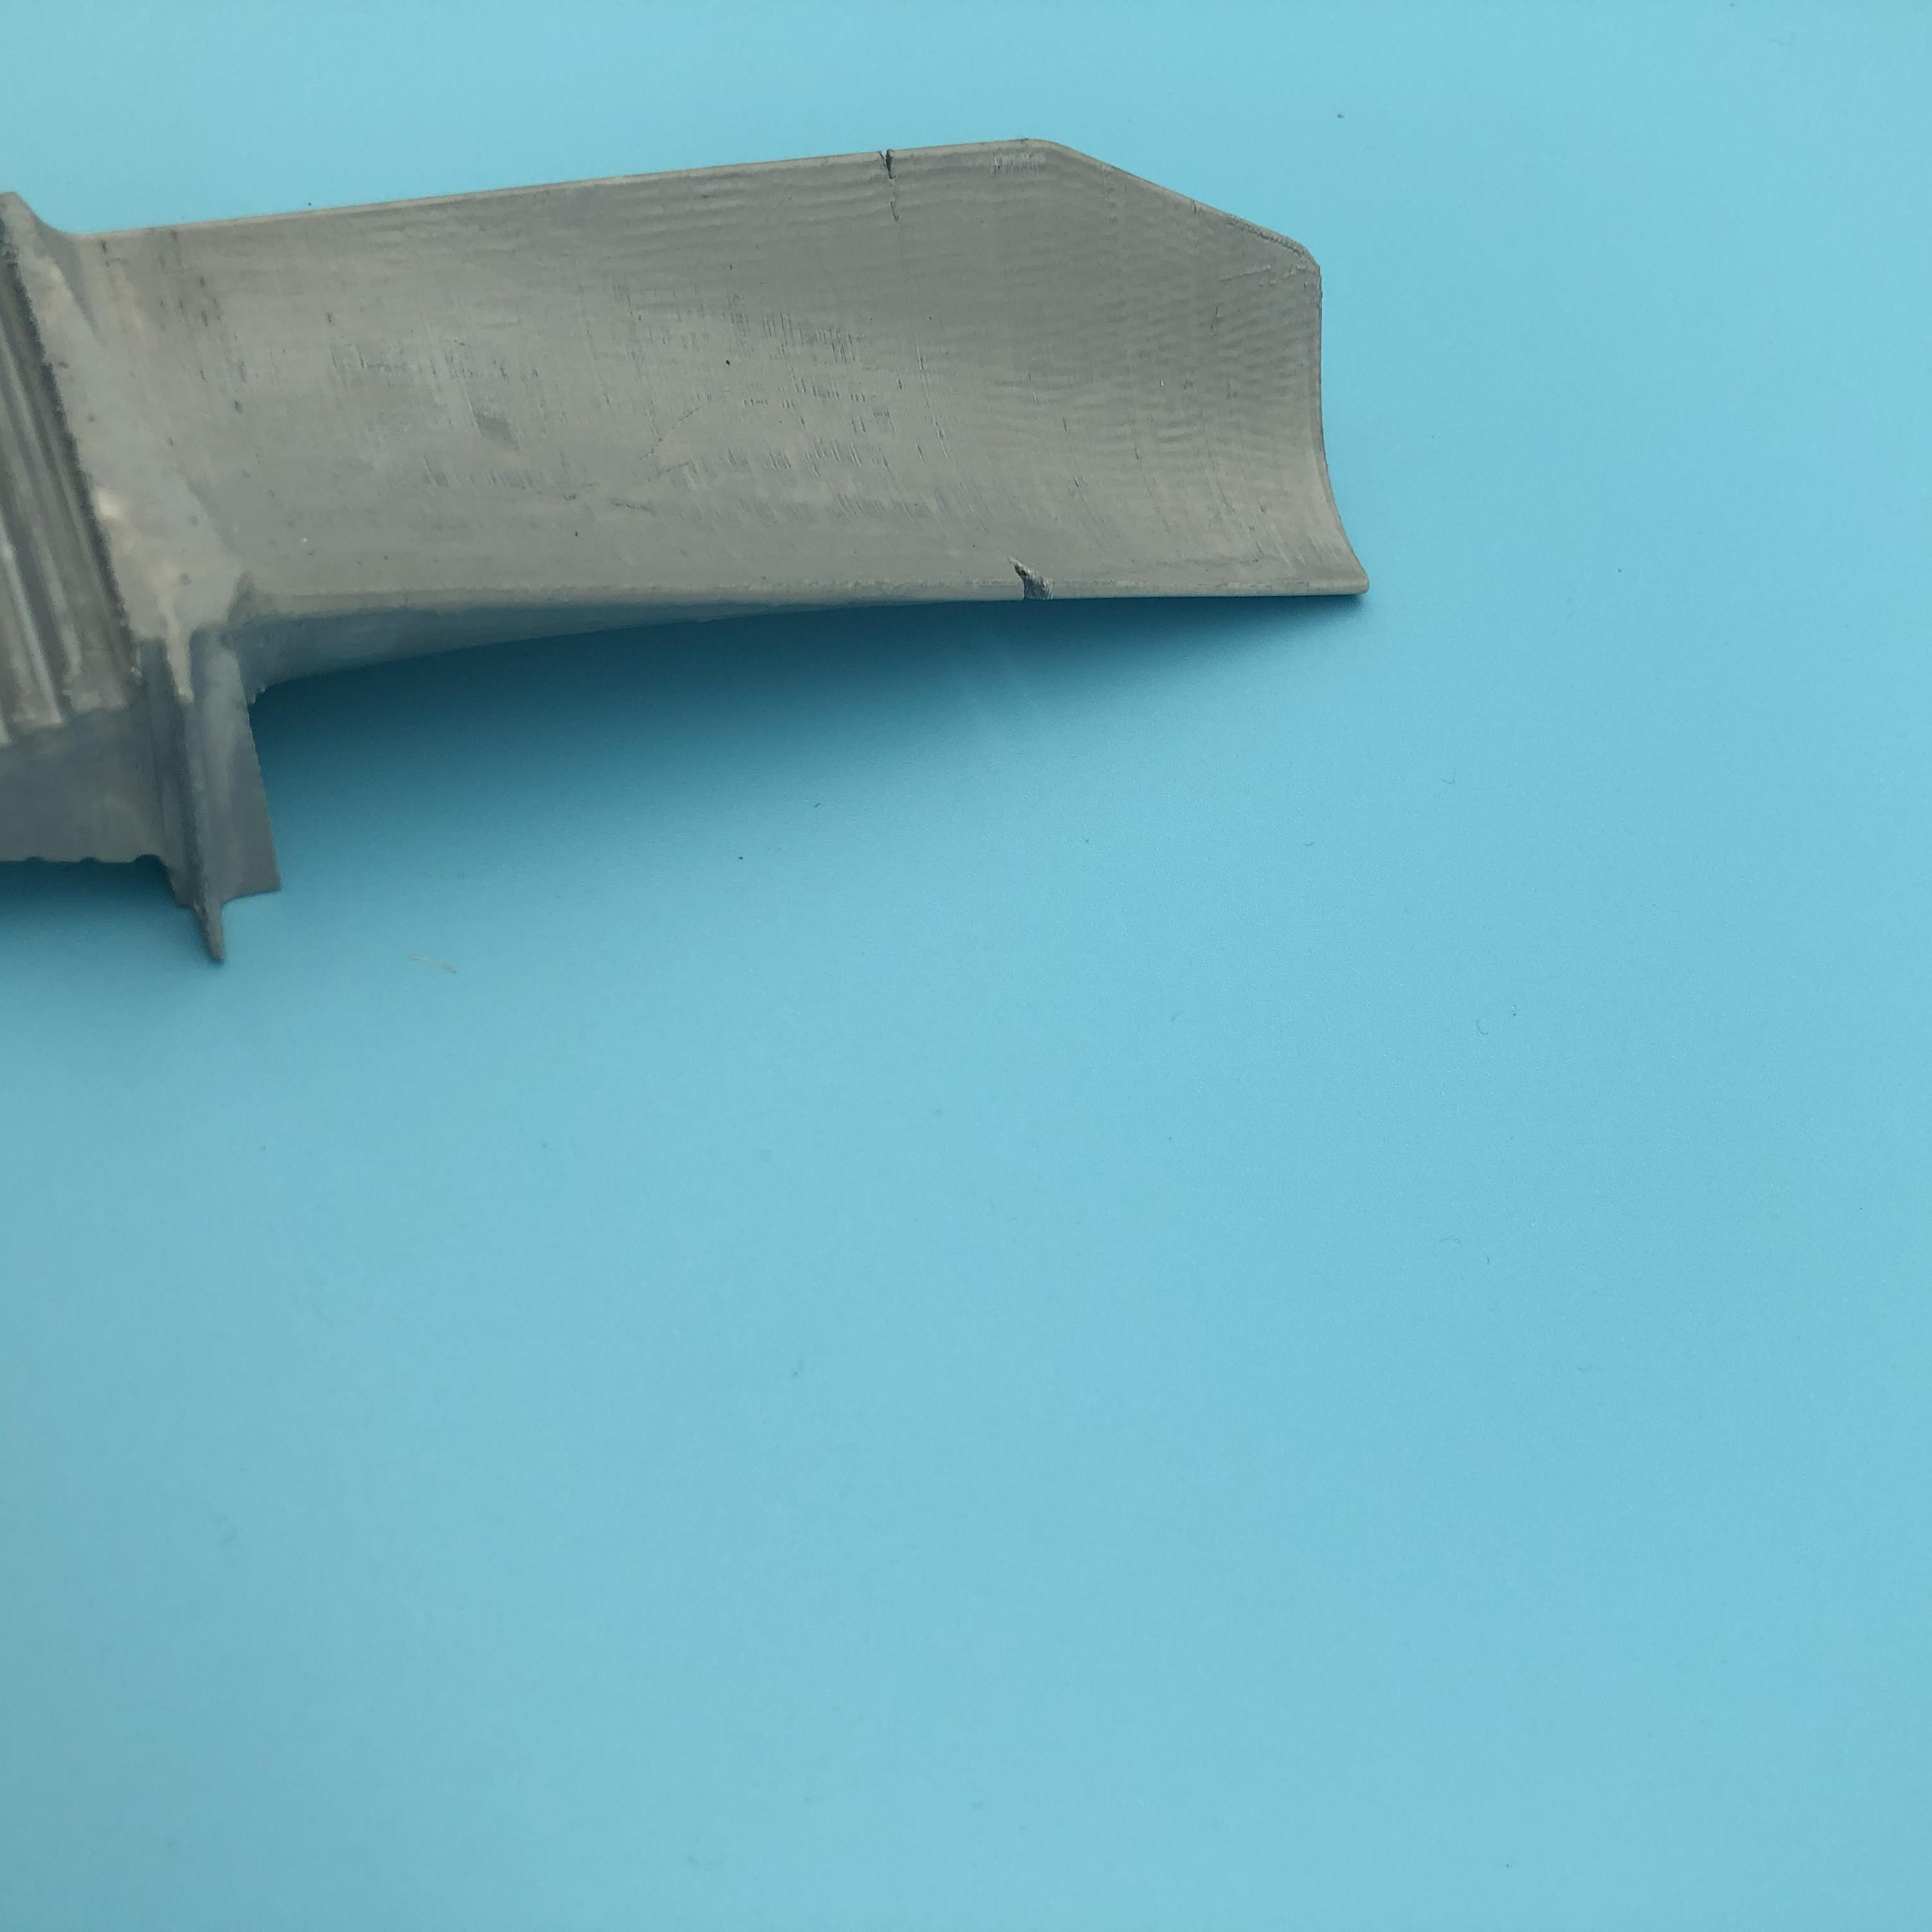groove: (1007, 554, 1069, 598), (865, 154, 911, 193)
